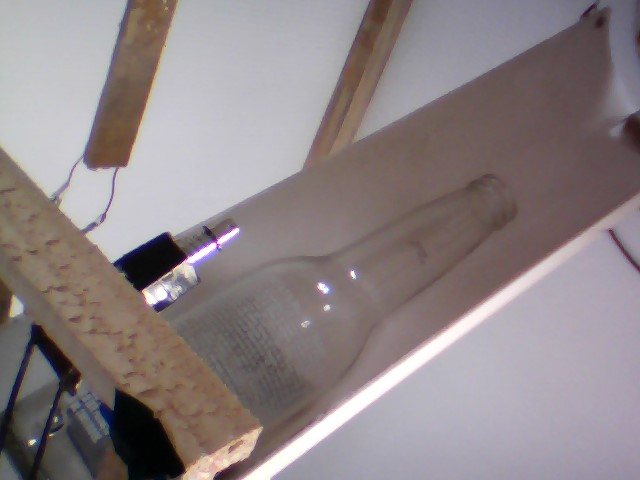vidrio: (171, 167, 532, 426)
